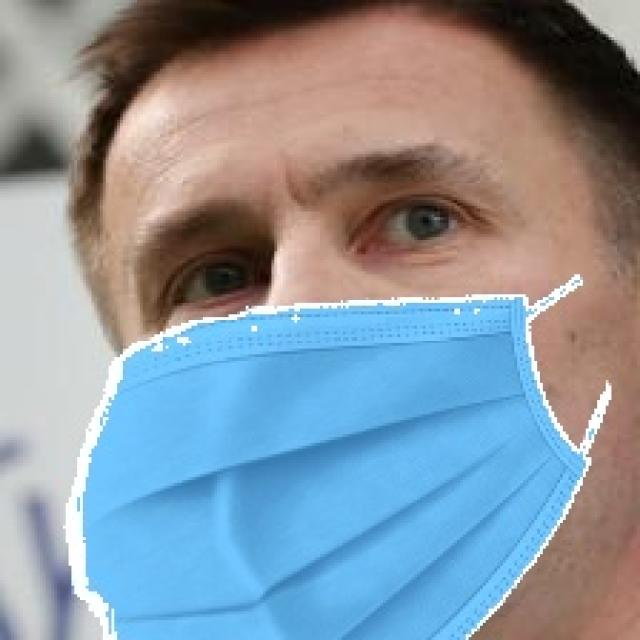mask: (47, 302, 628, 640)
